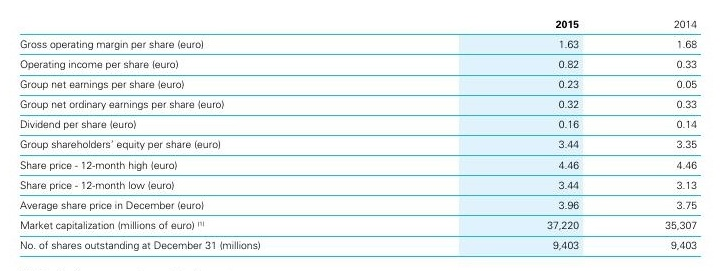table: (0, 0, 728, 271)
